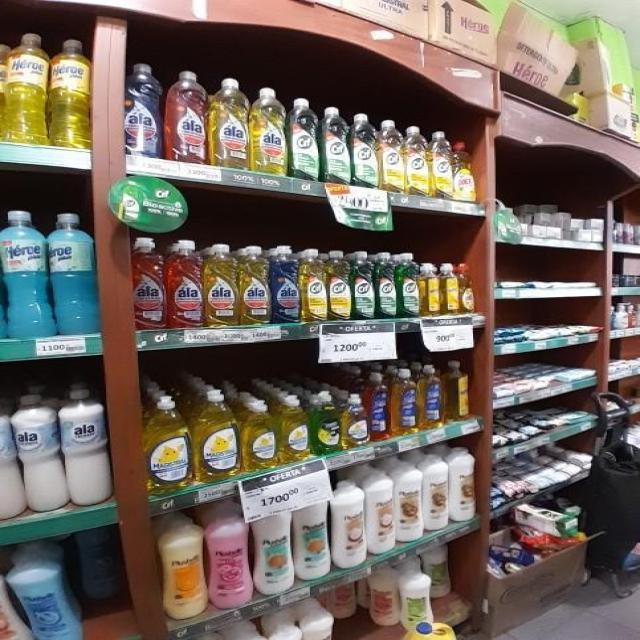ala_conc_amarillo: (209, 77, 249, 170), (250, 87, 288, 174), (205, 242, 238, 327), (239, 244, 270, 325)
ala_conc_azul: (121, 64, 162, 159), (271, 246, 299, 323)
ala_conc_rojo: (165, 70, 207, 165), (128, 236, 166, 330), (167, 239, 203, 329)
ala_crem_blanco: (61, 386, 110, 507), (17, 393, 61, 514), (0, 397, 17, 521)
cif_conc_bot_amarilla: (300, 247, 327, 322), (378, 119, 404, 193), (327, 249, 351, 320), (404, 125, 428, 196), (431, 130, 452, 199)
cif_conc_botella_verde: (289, 97, 319, 181), (322, 106, 350, 184), (351, 113, 378, 188), (352, 250, 374, 320), (397, 252, 418, 318), (376, 251, 396, 319)
heroe: (441, 262, 460, 315)
magistral_con_amarillo: (143, 393, 190, 492), (194, 390, 238, 481), (241, 398, 277, 470), (279, 394, 309, 463), (342, 393, 368, 449)
magistral_con_verde: (312, 392, 341, 455)
odex: (453, 141, 476, 201)
zorro: (390, 367, 416, 436), (418, 363, 443, 430), (368, 371, 388, 442)
